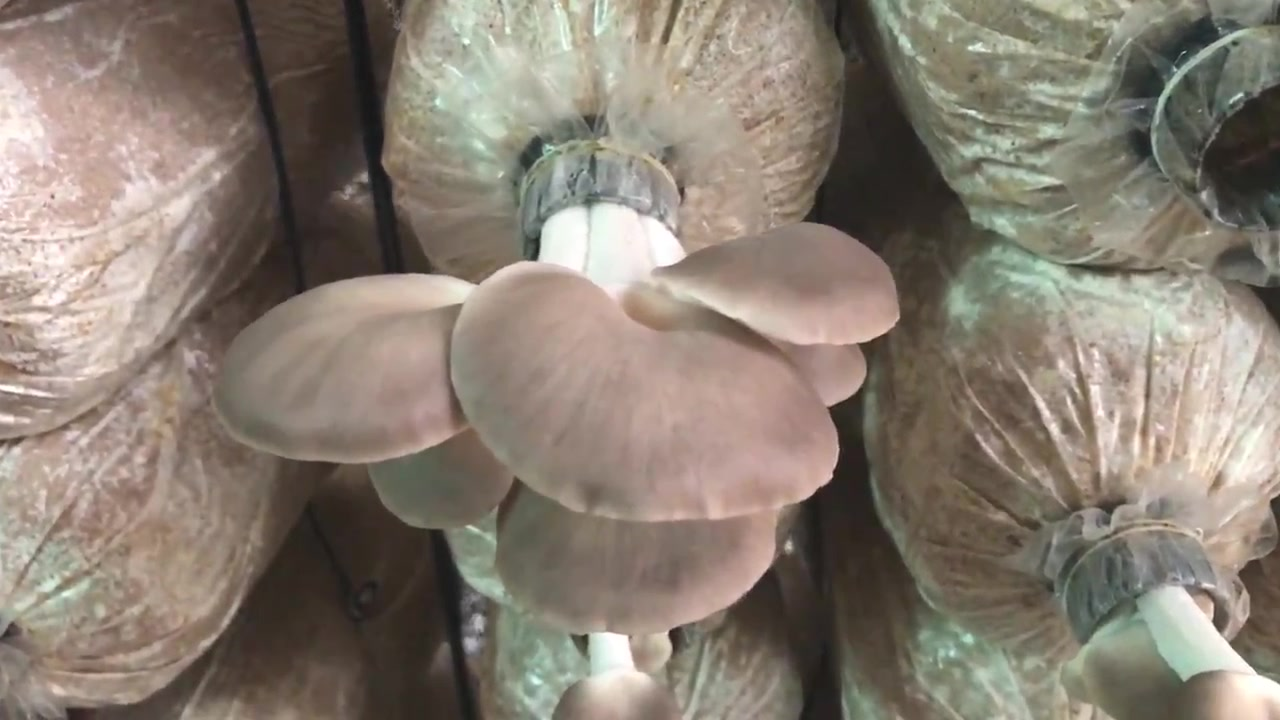nam: (218, 142, 900, 633), (1062, 523, 1279, 716), (557, 630, 683, 720)
